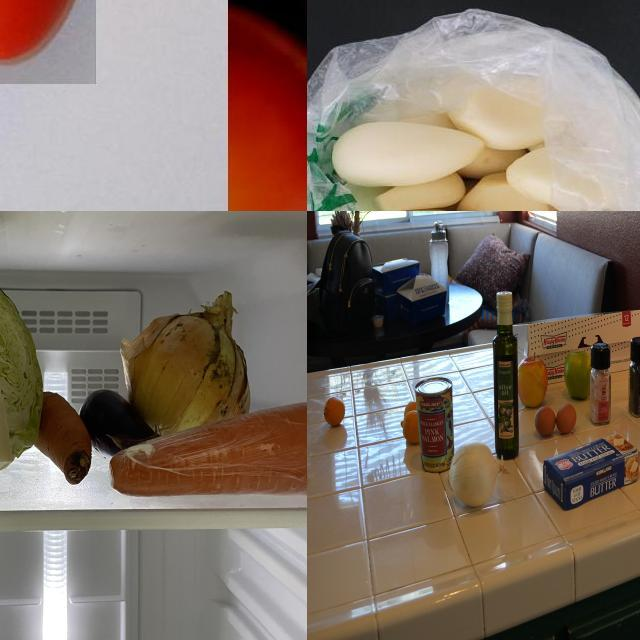bell_pepper: (629, 337, 640, 418)
cabbage: (1, 252, 45, 490)
carrot: (109, 398, 308, 502), (34, 390, 96, 488)
egg: (537, 406, 557, 440), (558, 403, 578, 436)
eggplant: (82, 386, 160, 466)
garlic: (334, 77, 562, 212)
onion: (123, 296, 261, 440), (450, 443, 511, 510)
tomato: (229, 1, 308, 212), (1, 1, 97, 85)
